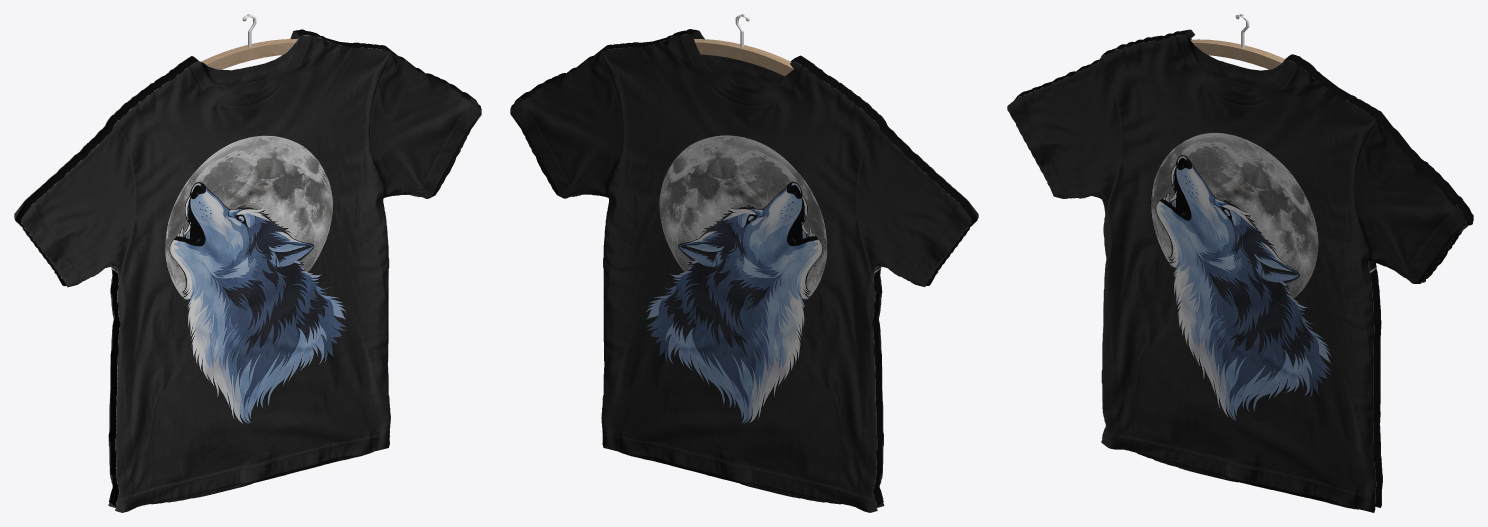
Rendered from Wolf shirt.fbx.
The picture shows the model from 3 angles, left to right: view 1: azimuth 30°, elevation 25°; view 2: azimuth 150°, elevation 25°; view 3: azimuth 330°, elevation 25°; orthographic projection.
Visible parts, largest first — view 1: Wolf shirt, Hanger; view 2: Wolf shirt, Hanger; view 3: Wolf shirt, Hanger.
Part boxes in pixels (x1,y1,x2,y2): Wolf shirt: (14, 29, 481, 512); Hanger: (201, 14, 297, 69); Wolf shirt: (510, 29, 978, 512); Hanger: (694, 14, 793, 76); Wolf shirt: (1007, 29, 1473, 512); Hanger: (1190, 14, 1347, 100).
Size of the model in its own units: 2123 by 53.29 by 2046.
Materials: 4 (3 with a texture image).
